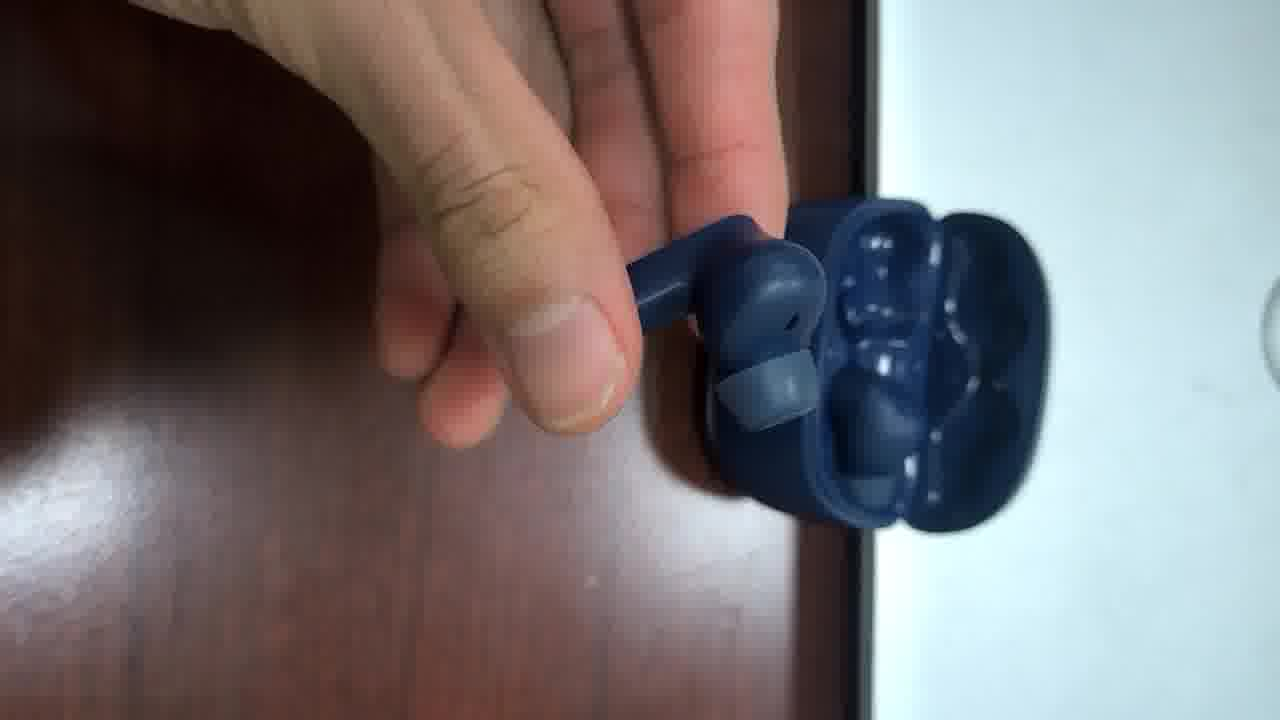Earbud: (627, 216, 825, 429)
